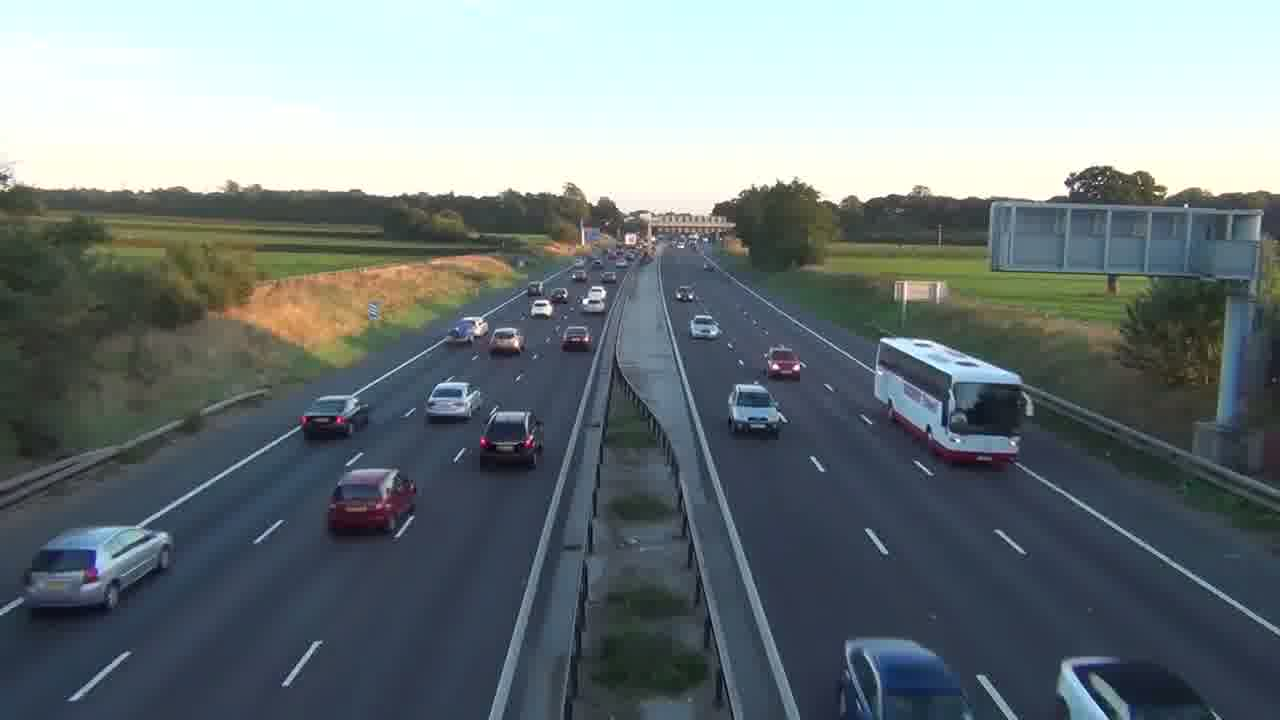bus: (873, 335, 1030, 468)
car: (19, 524, 174, 613), (1055, 655, 1224, 719), (325, 467, 418, 539), (478, 408, 546, 468), (301, 395, 370, 439), (424, 379, 482, 423), (764, 345, 804, 381), (489, 325, 524, 355), (688, 313, 722, 341), (560, 325, 593, 353), (447, 319, 477, 344), (580, 286, 607, 312)
